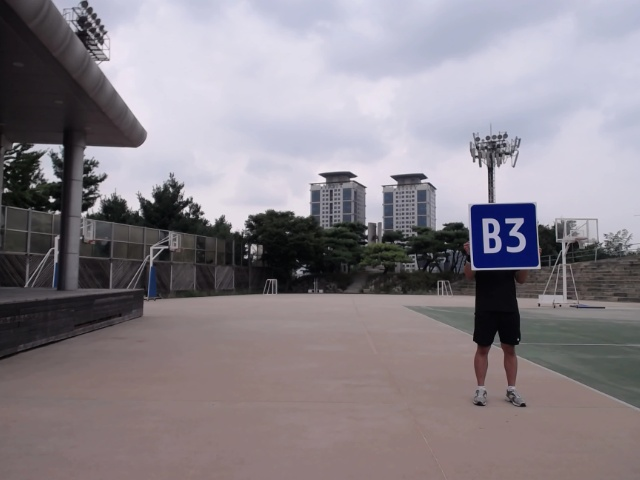delivery_b3: (468, 202, 543, 271)
